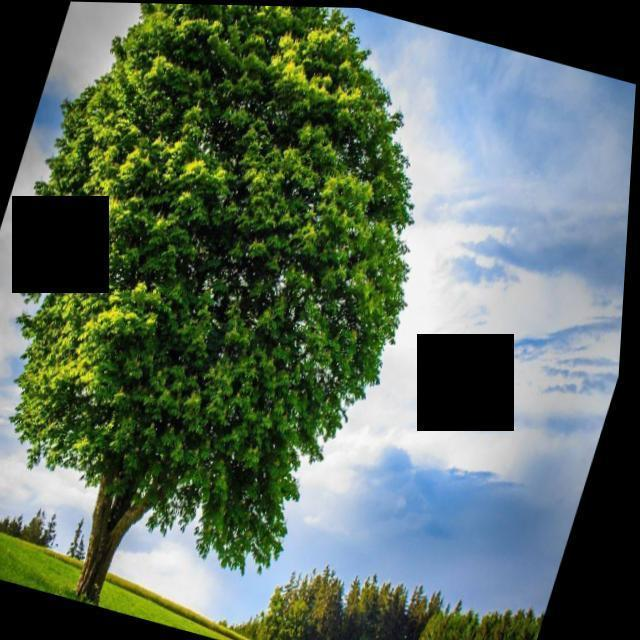tree: (0, 0, 488, 640), (300, 561, 353, 640), (371, 569, 425, 640), (364, 573, 416, 640), (284, 568, 332, 640), (349, 572, 396, 640), (387, 582, 442, 640), (334, 577, 384, 640), (266, 575, 314, 640), (319, 574, 366, 640), (403, 583, 457, 640), (488, 600, 548, 640), (420, 597, 474, 640), (443, 600, 498, 640), (428, 600, 482, 640), (500, 600, 552, 640), (462, 605, 520, 640), (471, 610, 532, 640), (450, 609, 505, 640), (242, 601, 280, 638), (509, 607, 551, 640), (72, 520, 98, 566), (46, 506, 72, 547), (0, 511, 38, 537), (32, 504, 56, 542)
